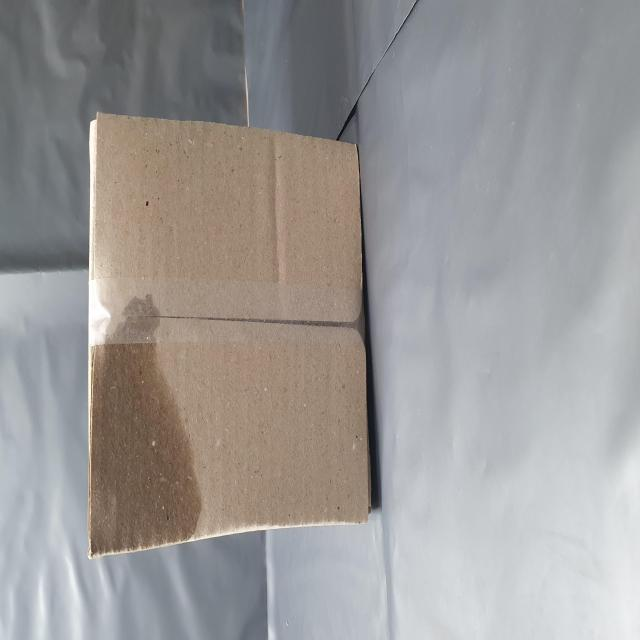wet: (38, 152, 214, 357)
